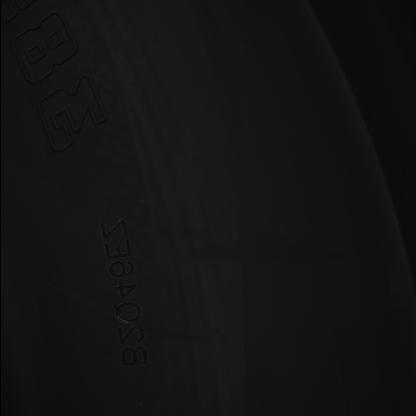ocr: (98, 218, 152, 368)
